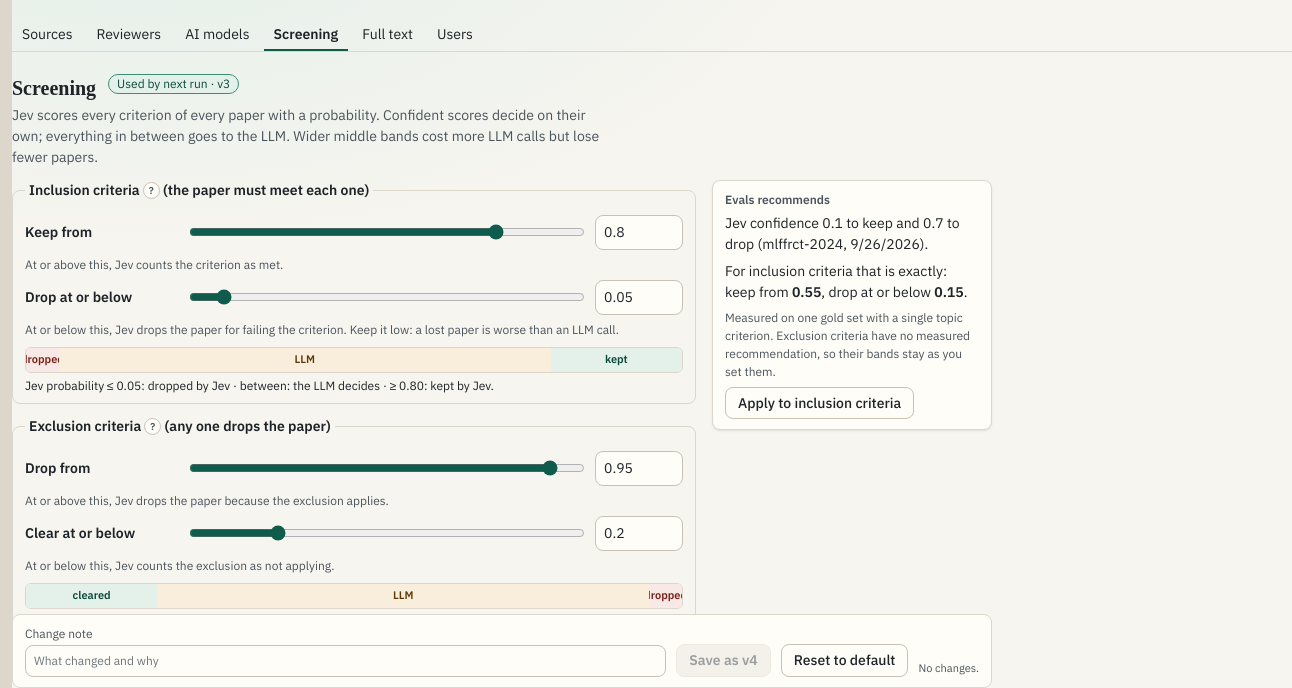
Test: Settings → Screening › shows a stale save with a reload button
Replace the text in the number field labelled "Keep from" with "0.9". click: (639,232)
box: x1=595 y1=215 x2=683 y2=250
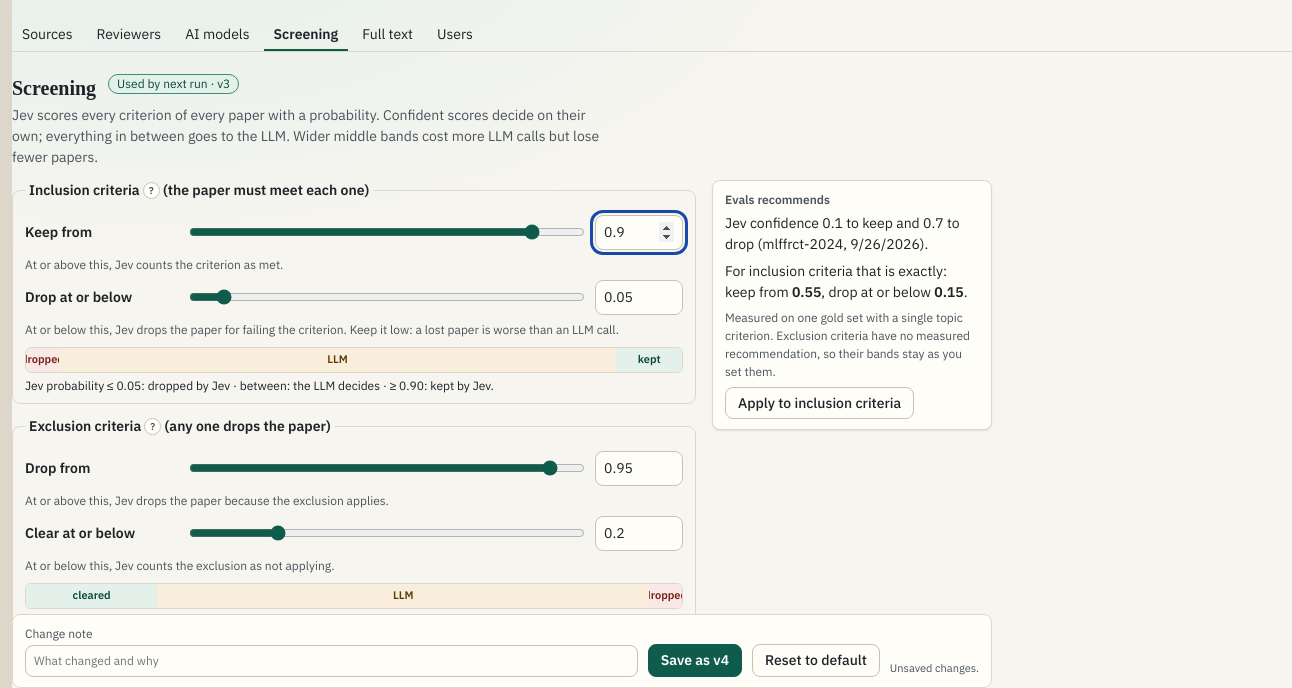
Click the button "Save as v4". click: (695,661)
box: x1=648 y1=645 x2=742 y2=677
(page scrolled)
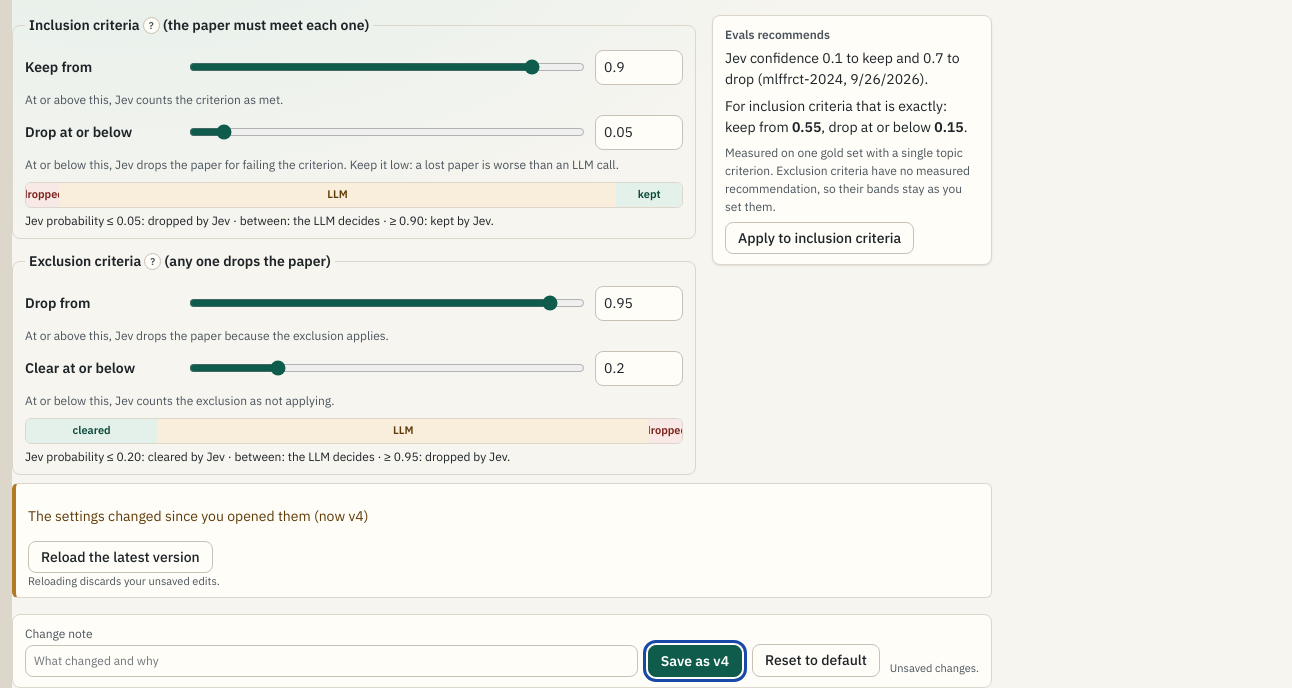
Expected: the text "The settings changed since you opened them (now v4)" is shown, x1=28 y1=507 x2=368 y2=525
Expected: the button "Reload the latest version" is shown, x1=28 y1=541 x2=213 y2=573
